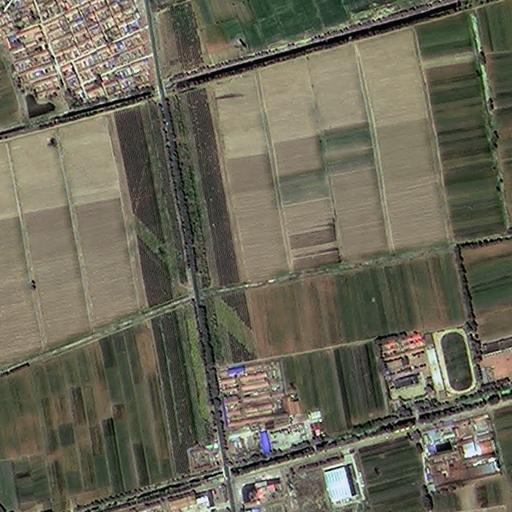school: (374, 325, 481, 408)
